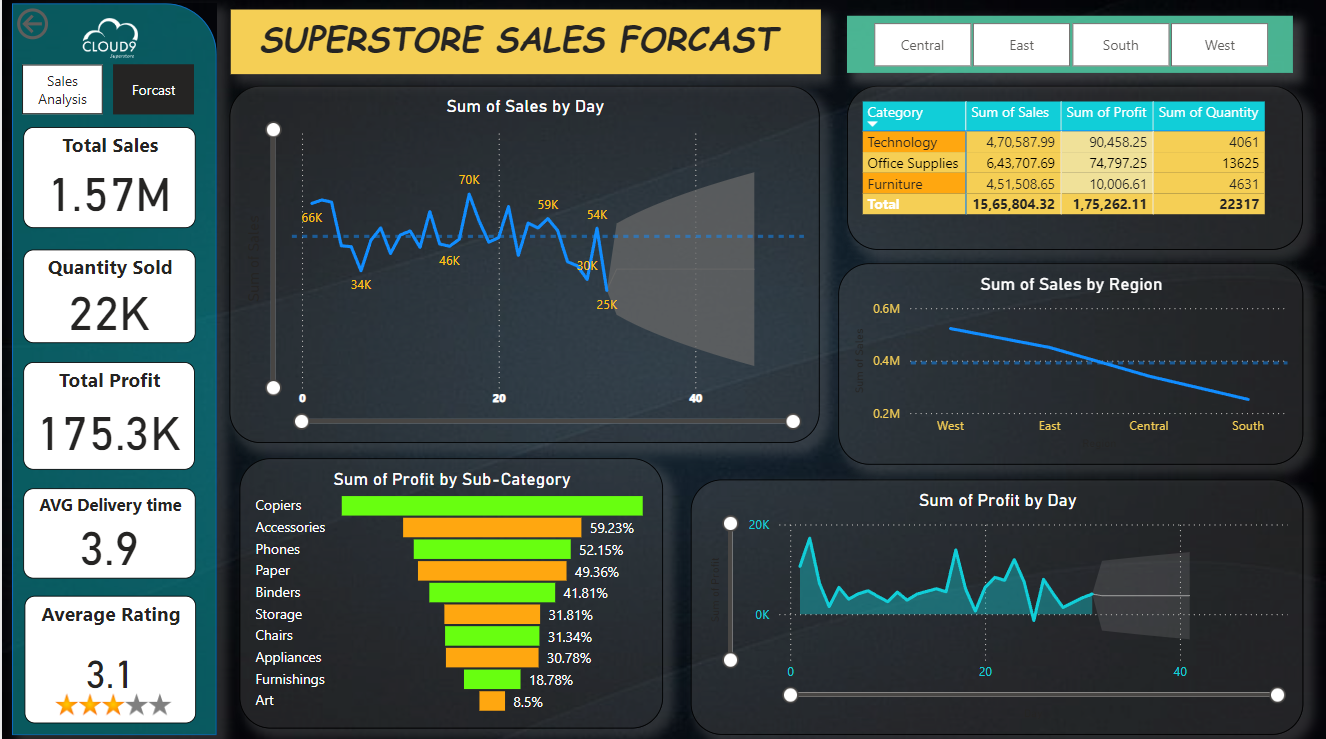

The dashboard page shown, as its layout file describes it:
{"tool":"powerbi","page":{"name":"Forcast","canvas":[1280,720],"ordinal":1},"visuals":[{"type":"shape","box":[9.6,5.5,197.6,706.7],"z":0},{"type":"lineChart","fields":{"Y":["Sum(Sheet1.Sales)"],"Category":["Sheet1.Order Date.Variation.Date Hierarchy.Year","Sheet1.Order Date.Variation.Date Hierarchy.Quarter","Sheet1.Order Date.Variation.Date Hierarchy.Month","Sheet1.Order Date.Variation.Date Hierarchy.Day"]},"box":[219.6,85.1,569.5,344.4],"z":1000},{"type":"lineChart","fields":{"Y":["Sum(Sheet1.Profit)"],"Category":["Sheet1.Order Date.Variation.Date Hierarchy.Year","Sheet1.Order Date.Variation.Date Hierarchy.Quarter","Sheet1.Order Date.Variation.Date Hierarchy.Month","Sheet1.Order Date.Variation.Date Hierarchy.Day"]},"box":[664.7,465.7,591.2,246.1],"z":2000},{"type":"lineChart","fields":{"Y":["Sum(Sheet1.Sales)"],"Category":["Sheet1.Region"]},"box":[807.1,257,448.8,194.2],"z":3000},{"type":"funnel","fields":{"Category":["Sheet1.Sub-Category"],"Y":["Sum(Sheet1.Profit)"]},"box":[229.2,451.2,409,260.6],"z":4000},{"type":"pivotTable","fields":{"Rows":["Sheet1.Category"],"Values":["Sum(Sheet1.Sales)","Sum(Sheet1.Profit)","Sum(Sheet1.Quantity)"]},"box":[815.6,85.7,440.4,158],"z":5000},{"type":"actionButton","box":[9.6,5.5,100.2,39.8],"z":6000},{"type":"pageNavigator","box":[19.3,65.1,167.7,48.3],"z":7000},{"type":"card","title":"Total Sales","fields":{"Values":["Sum(Sheet1.Sales)"]},"box":[20,125,166.2,97.5],"z":8000},{"type":"card","title":"Total Profit","fields":{"Values":["Sum(Sheet1.Profit)"]},"box":[20.5,352.3,165.3,103.8],"z":9000},{"type":"card","title":"Quantity Sold","fields":{"Values":["Sum(Sheet1.Quantity)"]},"box":[20,243.8,166.2,90],"z":10000},{"type":"slicer","fields":{"Values":["Sheet1.Region"]},"box":[815.6,18.1,430.7,55.5],"z":13000},{"type":"image","box":[54.3,0,98.9,85.7],"z":14000},{"type":"textbox","box":[220.8,12.1,569.4,62.7],"z":15000},{"type":"card","title":"AVG Delivery time","fields":{"Values":["Avg(Sheet1.Averagedelivery)"]},"box":[20.5,474.1,166.5,86.9],"z":15001},{"type":"card","title":"Average Rating","fields":{"Values":["Avg(Sheet1.Ratings)"]},"box":[21.7,577.9,165.3,123.1],"z":15002},{"type":"image","box":[45.8,655.1,123.1,55.5],"z":15003}]}

Visuals, with their boxes in screenshot pixels (x1, y1, x2, y2), scaled from the page's 1280x720 canvas onto the 1326x739 screenshot:
shape: bbox(10, 6, 215, 731)
lineChart - Sum(Sheet1.Sales) x Sheet1.Order Date.Variation.Date Hierarchy.Year: bbox(227, 87, 817, 441)
lineChart - Sum(Sheet1.Profit) x Sheet1.Order Date.Variation.Date Hierarchy.Year: bbox(689, 478, 1301, 731)
lineChart - Sum(Sheet1.Sales) x Sheet1.Region: bbox(836, 264, 1301, 463)
funnel - Sheet1.Sub-Category x Sum(Sheet1.Profit): bbox(237, 463, 661, 731)
pivotTable - Sheet1.Category x Sum(Sheet1.Sales): bbox(845, 88, 1301, 250)
actionButton: bbox(10, 6, 114, 46)
pageNavigator: bbox(20, 67, 194, 116)
"Total Sales" card: bbox(21, 128, 193, 228)
"Total Profit" card: bbox(21, 362, 192, 468)
"Quantity Sold" card: bbox(21, 250, 193, 343)
slicer - Sheet1.Region: bbox(845, 19, 1291, 76)
image: bbox(56, 0, 159, 88)
textbox: bbox(229, 12, 819, 77)
"AVG Delivery time" card: bbox(21, 487, 194, 576)
"Average Rating" card: bbox(22, 593, 194, 719)
image: bbox(47, 672, 175, 729)
